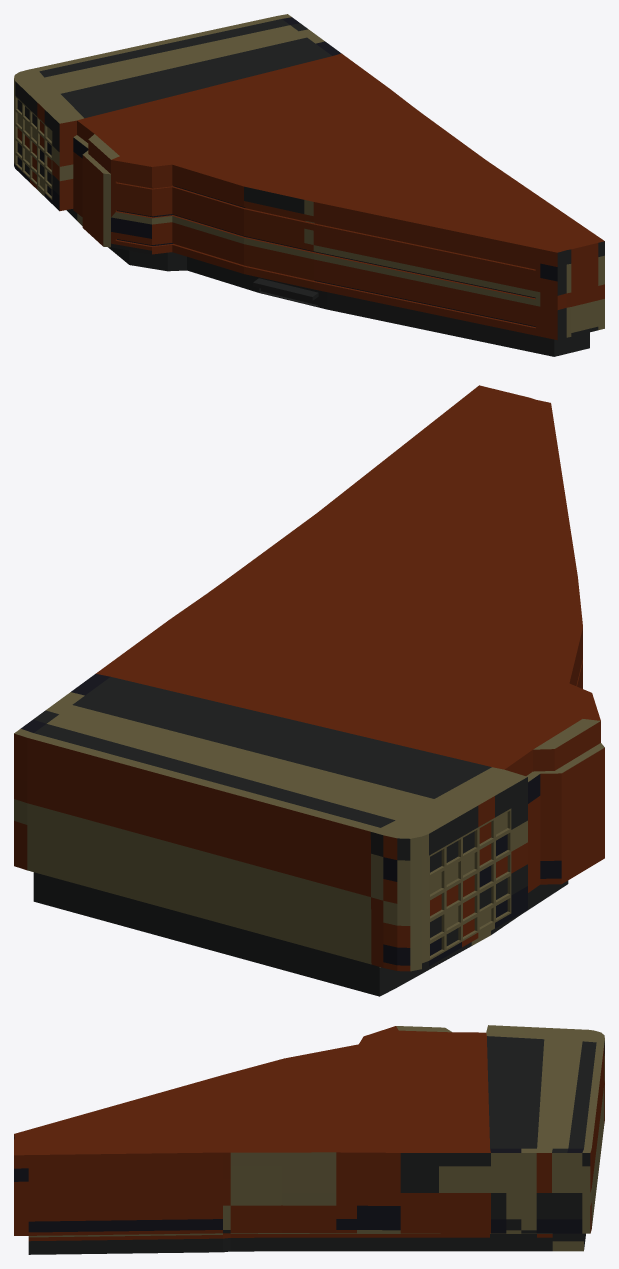
Rendered from esc_Callao_CorteIngles.fbx.
3 views of the same model, one above another, from view 1: azimuth 30°, elevation 25°; view 2: azimuth 150°, elevation 25°; view 3: azimuth 270°, elevation 25° (orthographic). The views are drawn at different scales.
Visible parts, largest first — view 1: Edif_7; view 2: Edif_7; view 3: Edif_7.
Boxes of the visible parts, box(x1,y1,x2,y2) form: Edif_7: box(14, 14, 604, 356); Edif_7: box(14, 385, 604, 996); Edif_7: box(14, 1025, 604, 1254).
Size of the model in its own units: 78.9 by 28.68 by 150.
